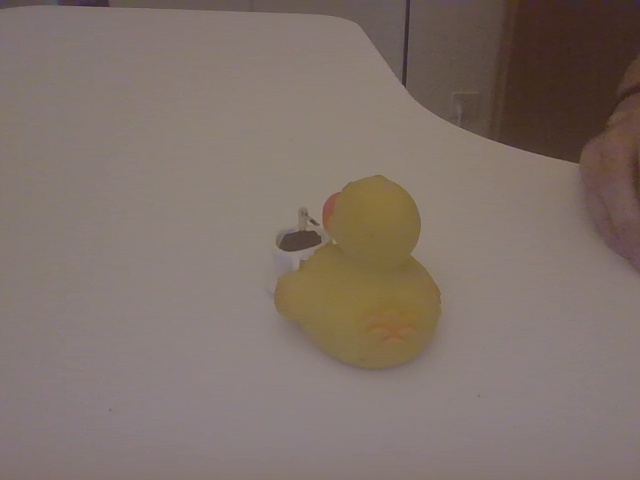duck: (265, 157, 448, 380)
